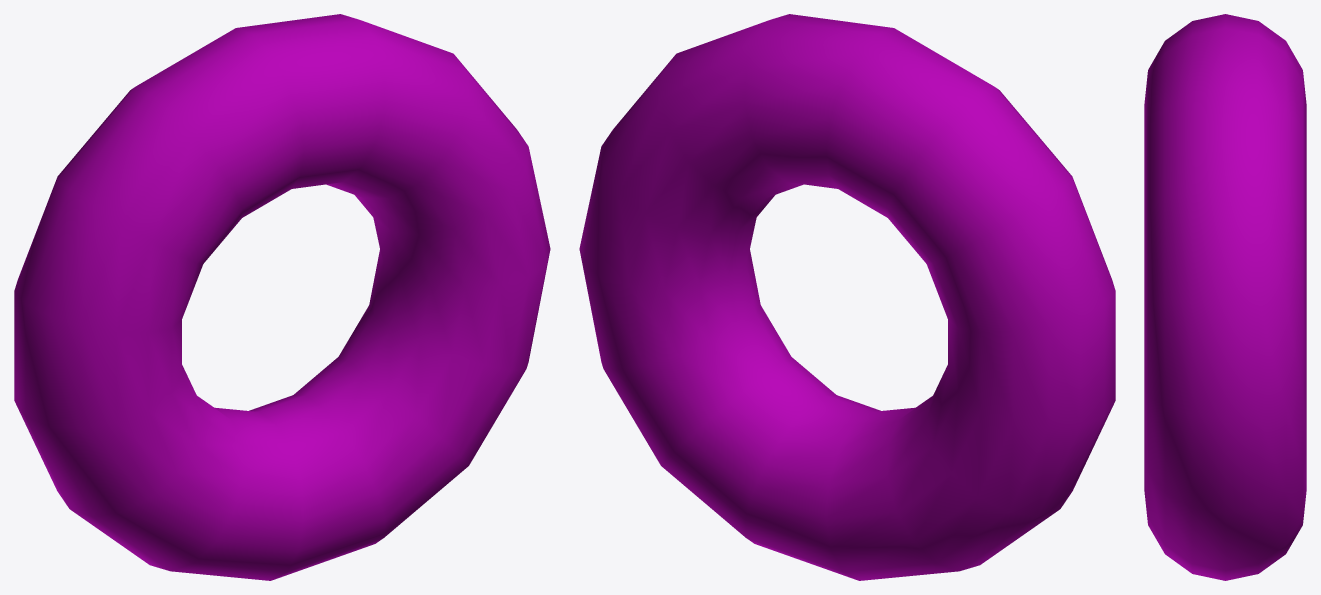
The model's file is Donut.obj.
3 renders of one model, left to right at view 1: azimuth 30°, elevation 25°; view 2: azimuth 150°, elevation 25°; view 3: azimuth 270°, elevation 25°, orthographic. The views are drawn at different scales.
Parts seen in each view (by area): view 1: Donut; view 2: Donut; view 3: Donut.
Part boxes in pixels (<box>): Donut: <box>14,14,550,580</box>; Donut: <box>579,14,1115,580</box>; Donut: <box>1144,14,1306,580</box>.
Size of the model in its own units: 13.85 by 13.92 by 3.98.
